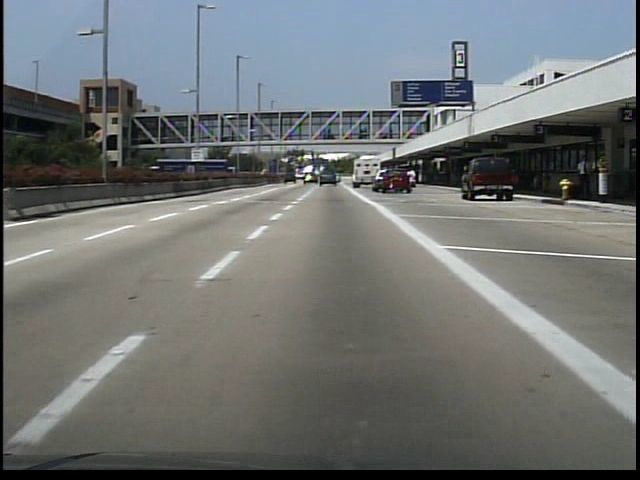person: (569, 152, 593, 201), (405, 169, 419, 191)
